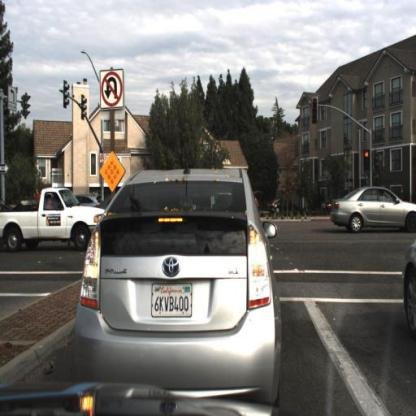car: (71, 164, 282, 387), (0, 188, 111, 252), (330, 185, 416, 237), (400, 229, 416, 335)
trafficLight-Red: (310, 91, 320, 124), (361, 145, 372, 173)
